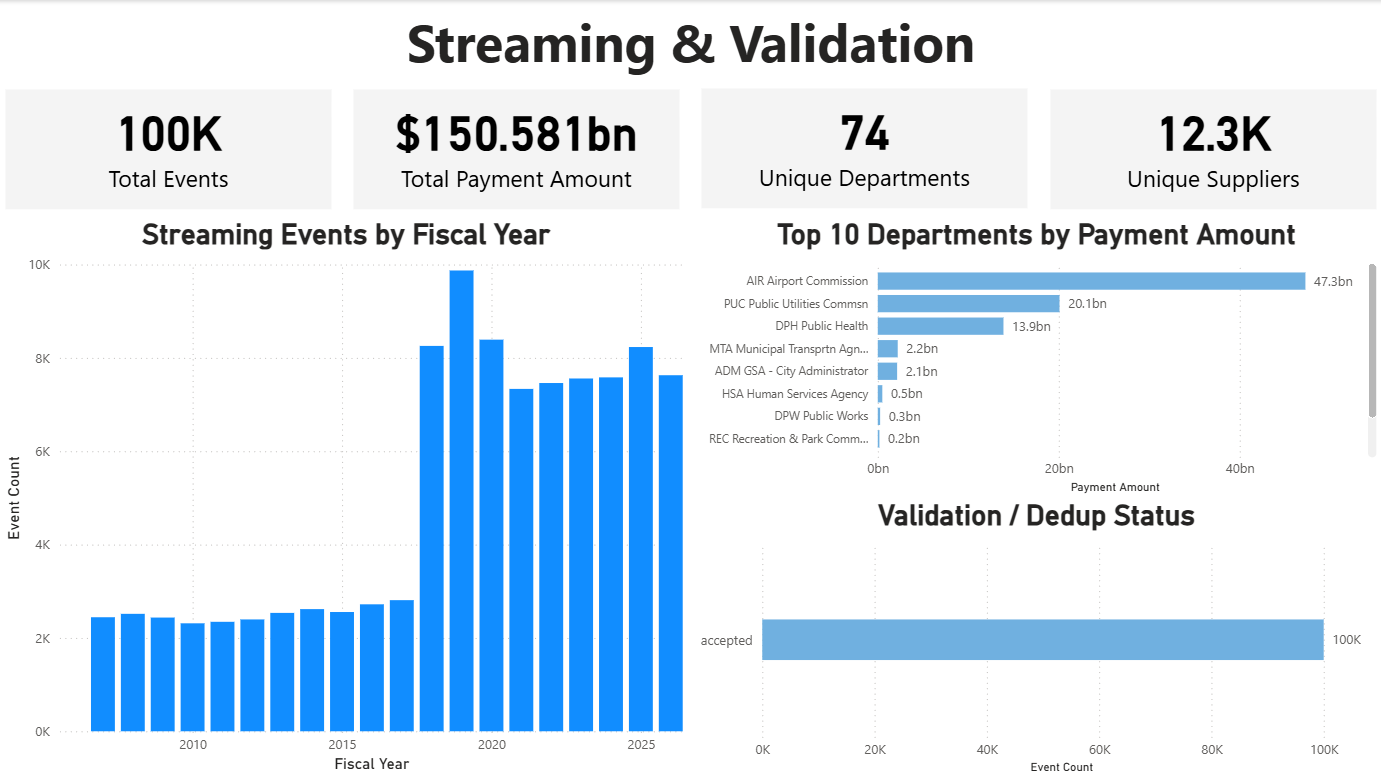

What the dashboard file says about the page in this screenshot:
{"tool":"powerbi","page":{"name":"Streaming & Validation","canvas":[1280,720],"ordinal":3},"visuals":[{"type":"textbox","box":[0,0,1280,77.5],"z":0},{"type":"cardVisual","title":"Total Sale","fields":{"Data":["_measures.Streaming Total Events"]},"box":[0,77.5,312,121.6],"z":1000},{"type":"cardVisual","title":"Total Sale","fields":{"Data":["_measures.Streaming Total Payment Amount"]},"box":[322.3,77.9,312.4,121.4],"z":2000},{"type":"cardVisual","title":"Total Sale","fields":{"Data":["_measures.Streaming Unique Departments"]},"box":[645,76.9,312.4,121.4],"z":3000},{"type":"clusteredBarChart","title":"Top 10 Departments by Payment Amount","fields":{"Category":["streaming_department_summary.department"],"Y":["Sum(streaming_department_summary.total_payment_amount)"]},"box":[640,201.1,640,260.6],"z":4000},{"type":"clusteredBarChart","title":"Validation / Dedup Status","fields":{"Category":["streaming_dedup_status_100k.dedup_status"],"Y":["Sum(streaming_dedup_status_100k.event_count)"]},"box":[640,460.8,640,259.7],"z":5000},{"type":"clusteredColumnChart","title":"Streaming Events by Fiscal Year","fields":{"Category":["streaming_events_by_fiscal_year.fiscal_year"],"Y":["Sum(streaming_events_by_fiscal_year.event_count)"]},"box":[0,201.1,640.9,519.3],"z":6000},{"type":"cardVisual","title":"Total Sale","fields":{"Data":["_measures.Streaming Unique Suppliers"]},"box":[967.6,77.9,312.4,121.4],"z":8000}]}

Visuals, with their boxes in screenshot pixels (x1, y1, x2, y2), scaled from the page's 1280x720 canvas onto the 1381x776 screenshot:
textbox: [0, 0, 1380, 84]
"Total Sale" cardVisual: [0, 84, 337, 215]
"Total Sale" cardVisual: [348, 84, 685, 215]
"Total Sale" cardVisual: [696, 83, 1033, 214]
"Top 10 Departments by Payment Amount" clusteredBarChart: [690, 217, 1380, 498]
"Validation / Dedup Status" clusteredBarChart: [690, 497, 1380, 775]
"Streaming Events by Fiscal Year" clusteredColumnChart: [0, 217, 691, 775]
"Total Sale" cardVisual: [1044, 84, 1380, 215]
